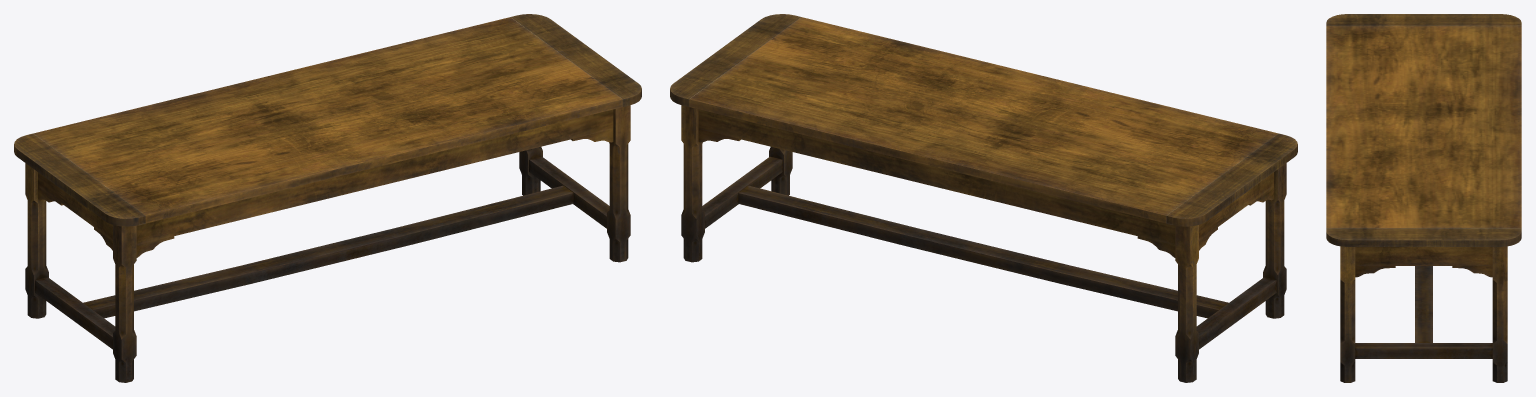
File: mesadeCentro.obj
3 views of the same model, side by side, from view 1: azimuth 30°, elevation 25°; view 2: azimuth 150°, elevation 25°; view 3: azimuth 270°, elevation 25° (orthographic). The views are drawn at different scales.
Parts seen in each view (by area): view 1: Mesh; view 2: Mesh; view 3: Mesh.
Part boxes in pixels (x1=…): Mesh: x1=14, y1=14, x2=641, y2=382; Mesh: x1=670, y1=14, x2=1297, y2=382; Mesh: x1=1326, y1=14, x2=1521, y2=382.
Size of the model in its own units: 1.8 by 0.5488 by 0.6572.
1 material, 1 textured.
